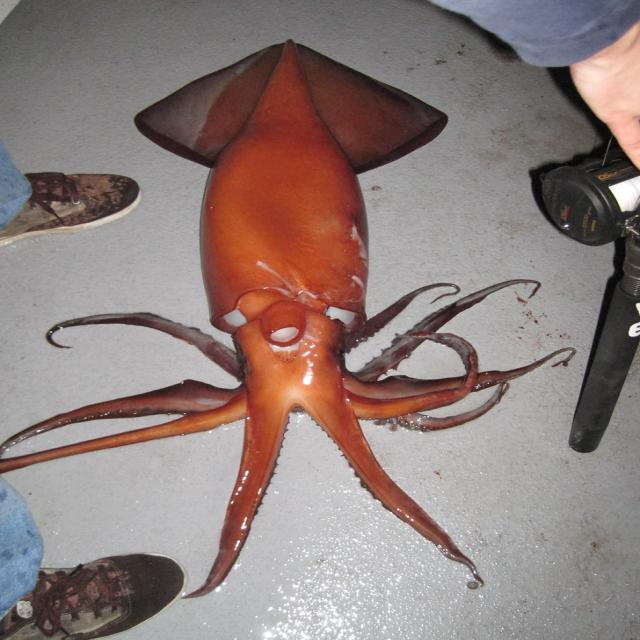SQUID: (0, 12, 579, 581)
